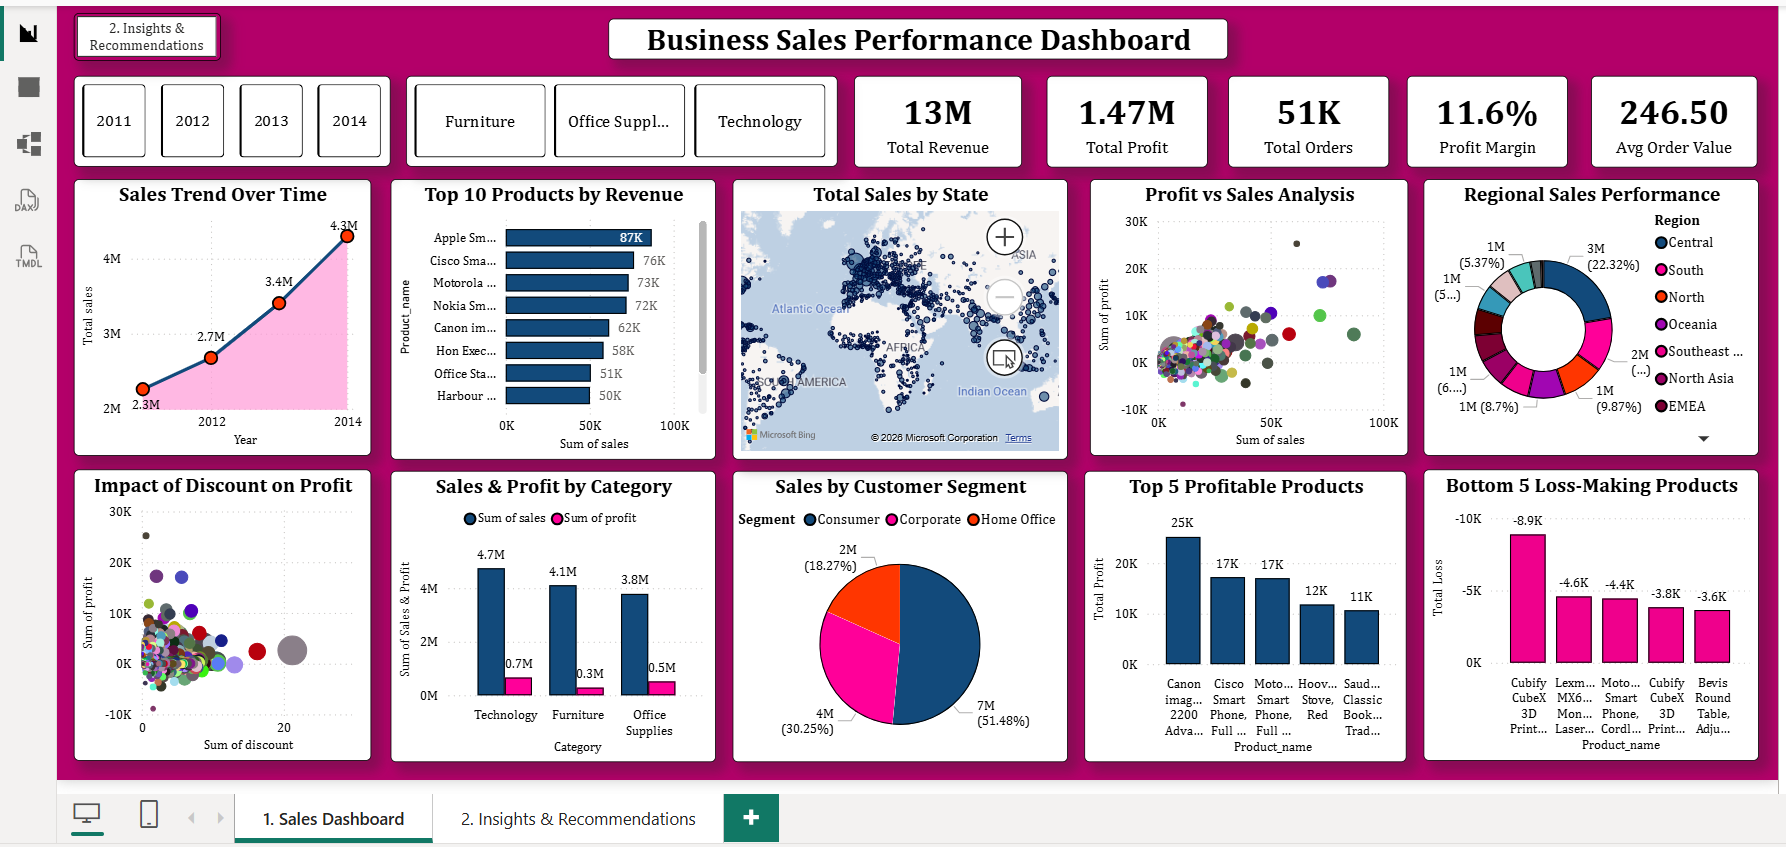

This screenshot's page, from the dashboard's own definition file:
{"tool":"powerbi","page":{"name":"1. Sales Dashboard","canvas":[1600,720],"ordinal":0},"visuals":[{"type":"card","fields":{"Values":["Sum(SuperStoreOrders.sales)"]},"box":[741,64.6,156.4,85],"z":0},{"type":"card","fields":{"Values":["Sum(SuperStoreOrders.profit)"]},"box":[919.5,64.6,149.6,85],"z":1000},{"type":"card","fields":{"Values":["SuperStoreOrders.Total Orders"]},"box":[1087.8,64.6,149.6,85],"z":2000},{"type":"card","fields":{"Values":["SuperStoreOrders.Profit Margin"]},"box":[1254.3,64.6,149.6,85],"z":3000},{"type":"card","fields":{"Values":["SuperStoreOrders.Avg Order Value"]},"box":[1426,64.6,154.7,85],"z":4000},{"type":"textbox","title":"Business Sales Performance Dashboard","box":[512.4,11.7,576,37.6],"z":5000},{"type":"lineChart","title":"Sales Trend Over Time","fields":{"Y":["Sum(SuperStoreOrders.sales)"],"Category":["SuperStoreOrders.year"]},"box":[15.6,160.9,276.3,256.9],"z":6000},{"type":"barChart","title":"Top 10 Products by Revenue","fields":{"Category":["SuperStoreOrders.product_name"],"Y":["Sum(SuperStoreOrders.sales)"]},"box":[310,160.9,302.3,260.7],"z":7000},{"type":"clusteredColumnChart","title":"Sales & Profit by Category","fields":{"Category":["SuperStoreOrders.category"],"Y":["Sum(SuperStoreOrders.sales)","Sum(SuperStoreOrders.profit)"]},"box":[310,432,302.3,271.1],"z":8000},{"type":"pieChart","title":"Sales by Customer Segment","fields":{"Category":["SuperStoreOrders.segment"],"Y":["Sum(SuperStoreOrders.sales)"]},"box":[627.9,432,311.3,271.1],"z":9000},{"type":"scatterChart","title":"Profit vs Sales Analysis","fields":{"X":["Sum(SuperStoreOrders.sales)"],"Y":["Sum(SuperStoreOrders.profit)"],"Size":["Sum(SuperStoreOrders.quantity)"],"Category":["SuperStoreOrders.product_name"]},"box":[959.4,160.4,295.8,257.5],"z":10000},{"type":"scatterChart","title":"Impact of Discount on Profit","fields":{"X":["Sum(SuperStoreOrders.discount)"],"Y":["Sum(SuperStoreOrders.profit)"],"Category":["SuperStoreOrders.product_name"],"Size":["Sum(SuperStoreOrders.quantity)"]},"box":[15.6,430.7,276.3,271.1],"z":11000},{"type":"donutChart","title":"Regional Sales Performance","fields":{"Category":["SuperStoreOrders.region"],"Y":["Sum(SuperStoreOrders.sales)"]},"box":[1269.8,160.4,311.9,257.5],"z":12000},{"type":"map","title":"Total Sales by State","fields":{"Category":["SuperStoreOrders.state"],"Size":["Sum(SuperStoreOrders.sales)"]},"box":[627.9,160.9,311.3,260.7],"z":13000},{"type":"clusteredColumnChart","title":"Top 5 Profitable Products","fields":{"Category":["SuperStoreOrders.product_name"],"Y":["Sum(SuperStoreOrders.profit)"]},"box":[954.8,432,299.7,271.1],"z":14000},{"type":"clusteredColumnChart","title":"Bottom 5 Loss-Making Products","fields":{"Category":["SuperStoreOrders.product_name"],"Y":["Sum(SuperStoreOrders.profit)"]},"box":[1270,430.7,311.3,271.1],"z":15000},{"type":"advancedSlicerVisual","fields":{"Values":["SuperStoreOrders.category"]},"box":[324.3,64.9,400.8,84.3],"z":16000},{"type":"advancedSlicerVisual","fields":{"Values":["SuperStoreOrders.year"]},"box":[15.6,64.9,294.5,84.3],"z":17000},{"type":"pageNavigator","box":[16.2,5.9,136.8,44.1],"z":18000}]}

Visuals, with their boxes in screenshot pixels (x1, y1, x2, y2):
card - Sum(SuperStoreOrders.sales): left=848, top=71, right=1020, bottom=165
card - Sum(SuperStoreOrders.profit): left=1045, top=71, right=1209, bottom=165
card - SuperStoreOrders.Total Orders: left=1230, top=71, right=1395, bottom=165
card - SuperStoreOrders.Profit Margin: left=1413, top=71, right=1578, bottom=165
card - SuperStoreOrders.Avg Order Value: left=1602, top=71, right=1773, bottom=165
"Business Sales Performance Dashboard" textbox: left=597, top=13, right=1231, bottom=54
"Sales Trend Over Time" lineChart: left=50, top=177, right=354, bottom=460
"Top 10 Products by Revenue" barChart: left=374, top=177, right=707, bottom=464
"Sales & Profit by Category" clusteredColumnChart: left=374, top=476, right=707, bottom=774
"Sales by Customer Segment" pieChart: left=724, top=476, right=1066, bottom=774
"Profit vs Sales Analysis" scatterChart: left=1089, top=177, right=1414, bottom=460
"Impact of Discount on Profit" scatterChart: left=50, top=474, right=354, bottom=773
"Regional Sales Performance" donutChart: left=1430, top=177, right=1774, bottom=460
"Total Sales by State" map: left=724, top=177, right=1066, bottom=464
"Top 5 Profitable Products" clusteredColumnChart: left=1084, top=476, right=1414, bottom=774
"Bottom 5 Loss-Making Products" clusteredColumnChart: left=1431, top=474, right=1773, bottom=773
advancedSlicerVisual - SuperStoreOrders.category: left=390, top=71, right=831, bottom=164
advancedSlicerVisual - SuperStoreOrders.year: left=50, top=71, right=374, bottom=164
pageNavigator: left=50, top=6, right=201, bottom=55
